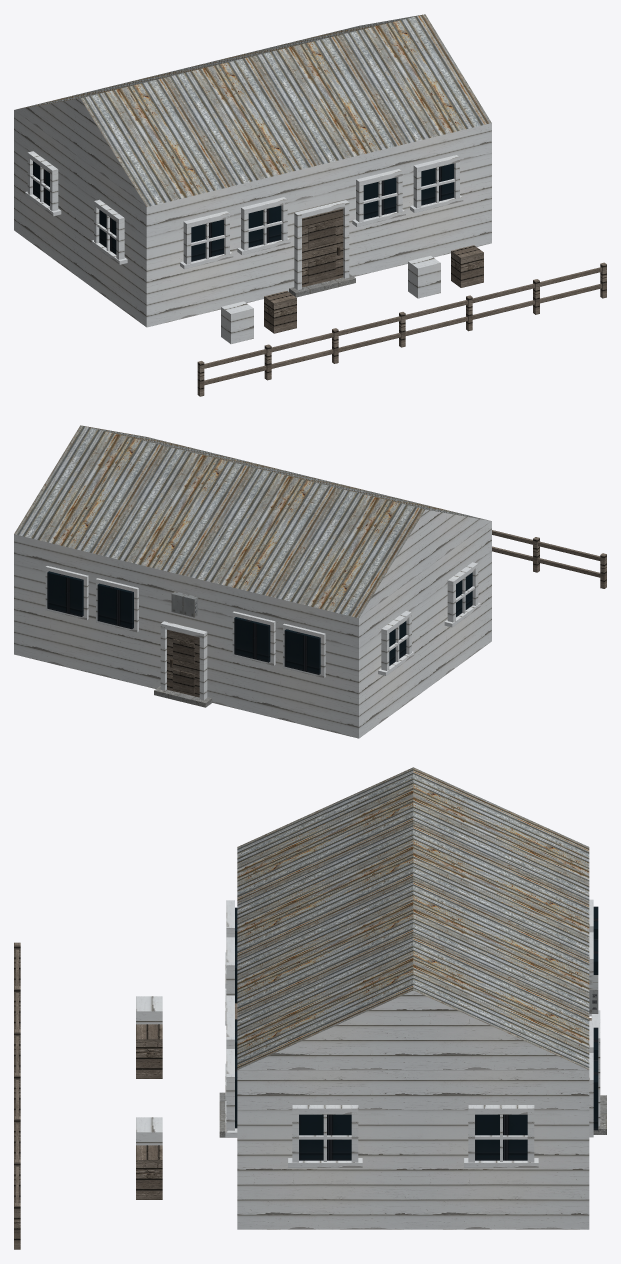
The model's file is honey-house-apiary_lod0.gltf.
The picture shows the model from 3 angles, top to bottom: view 1: azimuth 30°, elevation 25°; view 2: azimuth 150°, elevation 25°; view 3: azimuth 270°, elevation 25°; orthographic projection. The views are drawn at different scales.
Parts seen in each view (by area): view 1: honey-house-apiary_roof, honey-house-apiary_walls, honey-house-apiary_fen_20-white-clapboard_0, honey-house-apiary__fence, honey-house-apiary_fen_07-glass-curtain-blue_5_t, honey-house-apiary_gable_ends, honey-house-apiary_fen_18-timber-siding_1, honey-house-apiary_fen_18-timber-siding_2_t, honey-house-apiary__hive_a, honey-house-apiary__hive_b, honey-house-apiary__hive_c, honey-house-apiary__hive_d (+1 smaller); view 2: honey-house-apiary_roof, honey-house-apiary_walls, honey-house-apiary_fen_20-white-clapboard_0, honey-house-apiary_fen_07-glass-curtain-blue_5_t, honey-house-apiary_gable_ends, honey-house-apiary__fence, honey-house-apiary_fen_18-timber-siding_1, honey-house-apiary_fen_18-timber-siding_2_t, honey-house-apiary_fen_14-steel-panel_6, honey-house-apiary_fen_06-granite_4; view 3: honey-house-apiary_roof, honey-house-apiary_walls, honey-house-apiary_gable_ends, honey-house-apiary_fen_20-white-clapboard_0, honey-house-apiary_fen_07-glass-curtain-blue_5_t, honey-house-apiary__fence, honey-house-apiary__hive_b, honey-house-apiary__hive_d, honey-house-apiary__hive_a, honey-house-apiary__hive_c, honey-house-apiary_fen_06-granite_4.
Part boxes in pixels (bbox=[...]): honey-house-apiary_roof: bbox=[16, 14, 491, 206]; honey-house-apiary_walls: bbox=[14, 110, 491, 327]; honey-house-apiary_fen_20-white-clapboard_0: bbox=[25, 151, 463, 290]; honey-house-apiary__fence: bbox=[197, 262, 606, 396]; honey-house-apiary_fen_07-glass-curtain-blue_5_t: bbox=[33, 161, 453, 261]; honey-house-apiary_gable_ends: bbox=[14, 98, 146, 206]; honey-house-apiary_fen_18-timber-siding_1: bbox=[302, 208, 343, 287]; honey-house-apiary_fen_18-timber-siding_2_t: bbox=[308, 219, 335, 282]; honey-house-apiary__hive_a: bbox=[221, 301, 253, 343]; honey-house-apiary__hive_b: bbox=[264, 291, 296, 333]; honey-house-apiary__hive_c: bbox=[408, 255, 440, 298]; honey-house-apiary__hive_d: bbox=[451, 245, 483, 287]; honey-house-apiary_roof: bbox=[14, 425, 488, 618]; honey-house-apiary_walls: bbox=[14, 521, 491, 738]; honey-house-apiary_fen_20-white-clapboard_0: bbox=[45, 562, 480, 700]; honey-house-apiary_fen_07-glass-curtain-blue_5_t: bbox=[47, 571, 472, 674]; honey-house-apiary_gable_ends: bbox=[359, 509, 491, 617]; honey-house-apiary__fence: bbox=[492, 530, 606, 588]; honey-house-apiary_fen_18-timber-siding_1: bbox=[167, 629, 199, 697]; honey-house-apiary_fen_18-timber-siding_2_t: bbox=[173, 639, 194, 694]; honey-house-apiary_fen_14-steel-panel_6: bbox=[171, 591, 197, 617]; honey-house-apiary_fen_06-granite_4: bbox=[154, 686, 212, 707]; honey-house-apiary_roof: bbox=[237, 767, 589, 1069]; honey-house-apiary_walls: bbox=[237, 1070, 589, 1229]; honey-house-apiary_gable_ends: bbox=[237, 990, 588, 1070]; honey-house-apiary_fen_20-white-clapboard_0: bbox=[225, 899, 600, 1167]; honey-house-apiary_fen_07-glass-curtain-blue_5_t: bbox=[235, 906, 598, 1160]; honey-house-apiary__fence: bbox=[14, 942, 20, 1249]; honey-house-apiary__hive_b: bbox=[136, 1024, 162, 1078]; honey-house-apiary__hive_d: bbox=[136, 1145, 162, 1199]; honey-house-apiary__hive_a: bbox=[136, 996, 162, 1024]; honey-house-apiary__hive_c: bbox=[136, 1117, 162, 1145]; honey-house-apiary_fen_06-granite_4: bbox=[219, 1092, 606, 1137].
Bounding box in the file's own units: 14.15 × 6 × 13.47.
